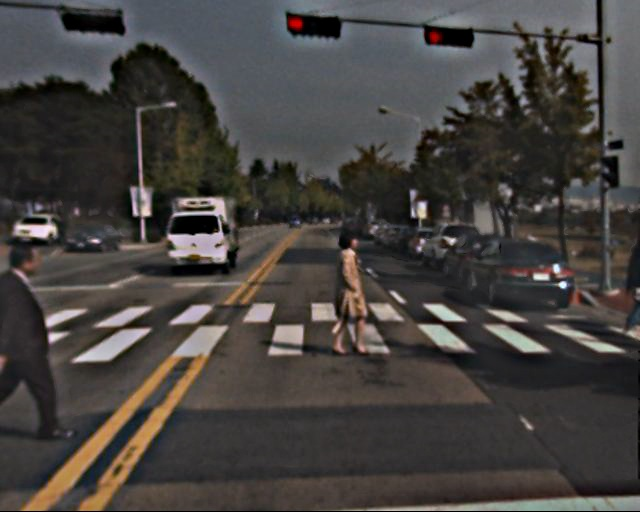person: (318, 232, 373, 358)
